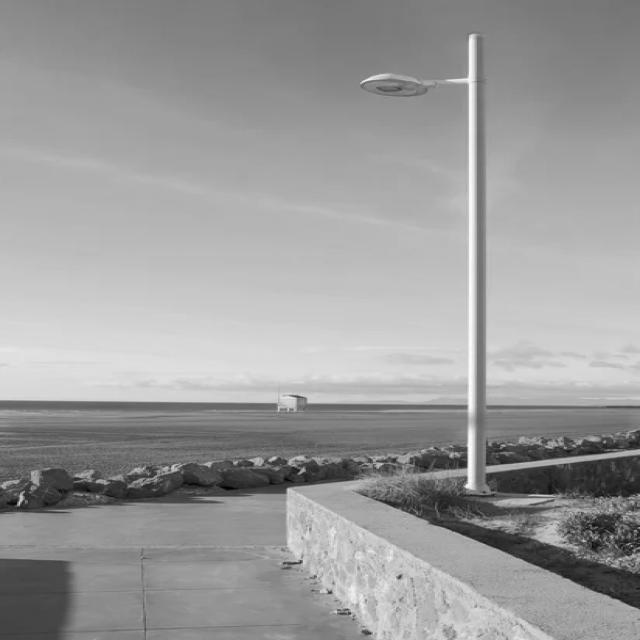Pole: (360, 33, 492, 497)
